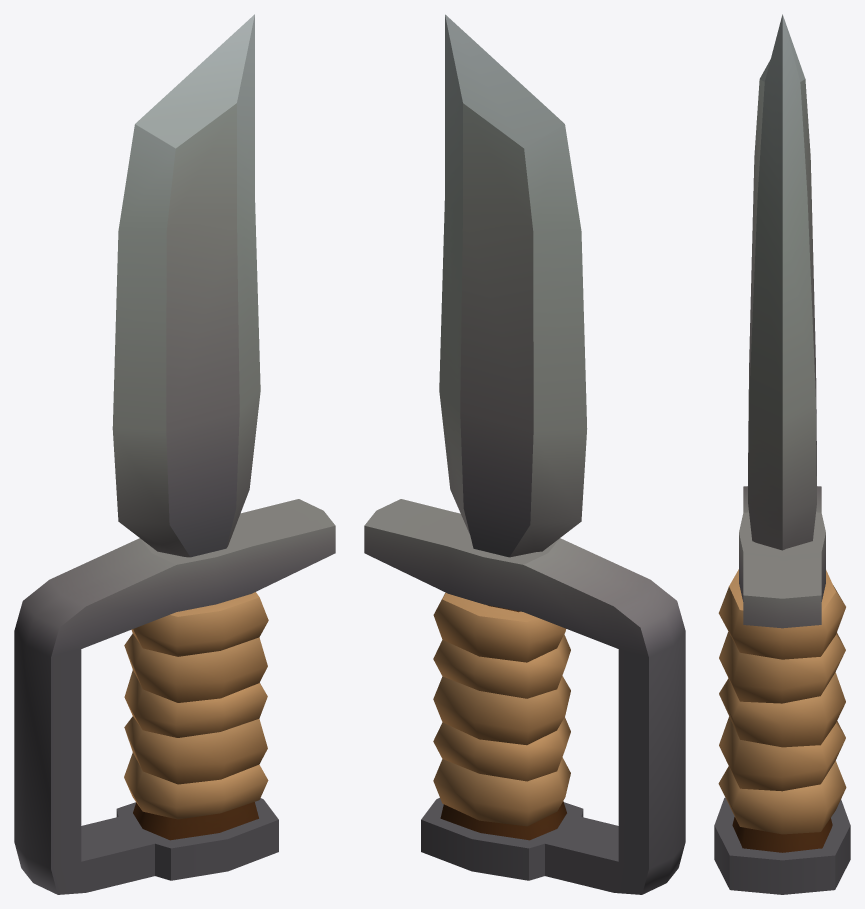
File: Dagger_05.glb
3 views of the same model, side by side, from view 1: azimuth 30°, elevation 25°; view 2: azimuth 150°, elevation 25°; view 3: azimuth 270°, elevation 25° (orthographic). The views are drawn at different scales.
Parts seen in each view (by area): view 1: Dagger_05; view 2: Dagger_05; view 3: Dagger_05.
Part boxes in pixels (x1,y1,x2,y2): Dagger_05: (14, 14, 335, 894); Dagger_05: (364, 14, 685, 894); Dagger_05: (714, 14, 850, 894).
Size of the model in its own units: 0.3197 by 0.8421 by 0.1186.
1 material, 1 textured.
